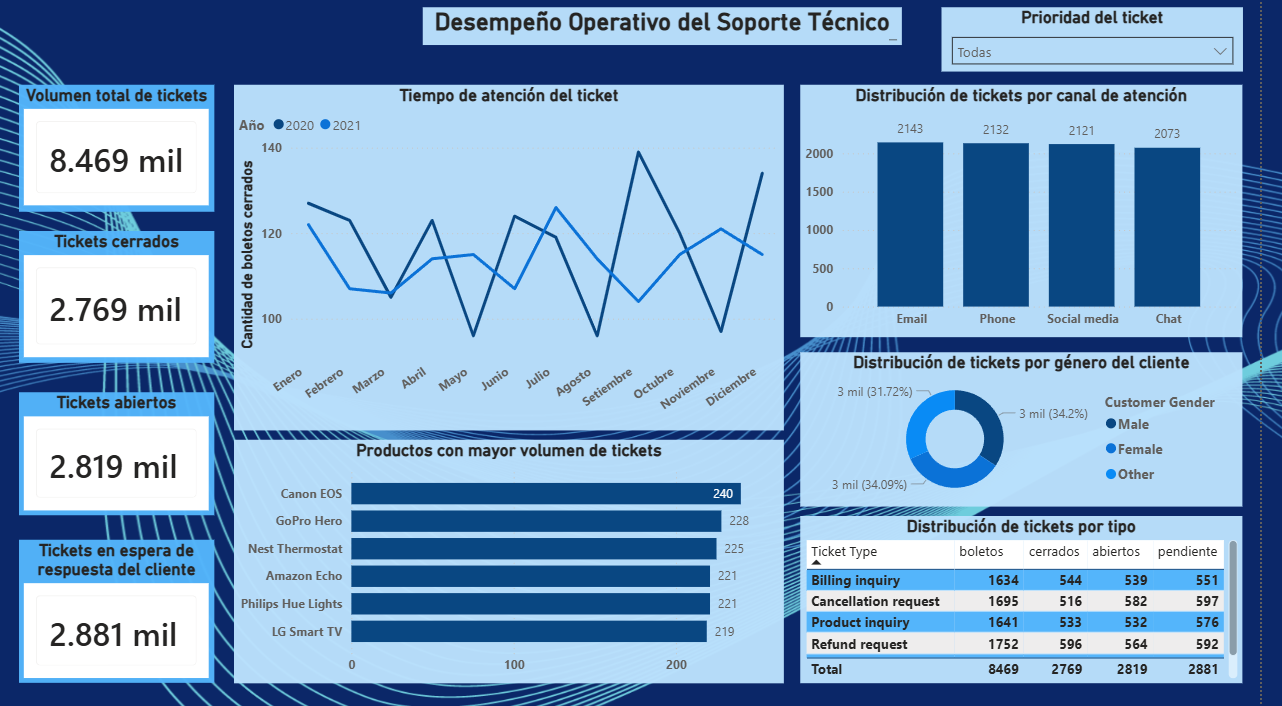

The dashboard page shown, as its layout file describes it:
{"tool":"powerbi","page":{"name":"ANALISIS","canvas":[1280,720],"ordinal":0},"visuals":[{"type":"cardVisual","title":"Volumen total de tickets","fields":{"Data":["customer_support_tickets.cantidad_boletos"]},"box":[45.4,93.3,194.2,126.1],"z":0},{"type":"cardVisual","title":"Tickets cerrados","fields":{"Data":["customer_support_tickets.boletos_cerrados"]},"box":[45.4,238.3,194.2,131.2],"z":1000},{"type":"cardVisual","title":"Tickets abiertos","fields":{"Data":["customer_support_tickets.boletos_abiertos"]},"box":[45.4,399.8,194.2,122.3],"z":2000},{"type":"cardVisual","title":"Tickets en espera de respuesta del cliente","fields":{"Data":["customer_support_tickets.boletos_pendiente"]},"box":[45.4,546,194.2,142.5],"z":3000},{"type":"donutChart","title":"Distribución de tickets por género del cliente","fields":{"Category":["customer_support_tickets.Customer Gender"],"Y":["customer_support_tickets.cantidad_boletos"]},"box":[822.2,359.4,440.1,153.9],"z":4000},{"type":"lineChart","title":"Tiempo de atención del ticket","fields":{"Category":["customer_support_tickets.Date of Purchase.Variación.Jerarquía de fechas.Mes"],"Series":["customer_support_tickets.Date of Purchase.Variación.Jerarquía de fechas.Año"],"Y":["customer_support_tickets.boletos_cerrados"]},"box":[258.5,93.3,547.3,344.3],"z":5000},{"type":"columnChart","title":"Distribución de tickets por canal de atención","fields":{"Category":["customer_support_tickets.Ticket Channel"],"Y":["customer_support_tickets.cantidad_boletos"]},"box":[822.2,93.3,440.1,251],"z":6000},{"type":"barChart","title":"Productos con mayor volumen de tickets","fields":{"Category":["customer_support_tickets.Product Purchased"],"Y":["customer_support_tickets.cantidad_boletos"]},"box":[258.5,446.4,547.3,242.1],"z":6001},{"type":"tableEx","title":"Distribución de tickets por tipo","fields":{"Values":["customer_support_tickets.Ticket Type","customer_support_tickets.cantidad_boletos","customer_support_tickets.boletos_cerrados","customer_support_tickets.boletos_abiertos","customer_support_tickets.boletos_pendiente"]},"box":[822.2,522.1,440.1,166.5],"z":6002},{"type":"textbox","title":"Desempeño Operativo del Soporte Técnico","box":[446.4,16.4,476.7,37.8],"z":6003},{"type":"slicer","title":"Prioridad del ticket","fields":{"Values":["customer_support_tickets.Ticket Priority"]},"box":[962.2,16.4,300.1,64.3],"z":6004}]}

Visuals, with their boxes in screenshot pixels (x1, y1, x2, y2), scaled from the page's 1280x720 canvas onto the 1282x706 screenshot:
"Volumen total de tickets" cardVisual: bbox(45, 91, 240, 215)
"Tickets cerrados" cardVisual: bbox(45, 234, 240, 362)
"Tickets abiertos" cardVisual: bbox(45, 392, 240, 512)
"Tickets en espera de respuesta del cliente" cardVisual: bbox(45, 535, 240, 675)
"Distribución de tickets por género del cliente" donutChart: bbox(823, 352, 1264, 503)
"Tiempo de atención del ticket" lineChart: bbox(259, 91, 807, 429)
"Distribución de tickets por canal de atención" columnChart: bbox(823, 91, 1264, 338)
"Productos con mayor volumen de tickets" barChart: bbox(259, 438, 807, 675)
"Distribución de tickets por tipo" tableEx: bbox(823, 512, 1264, 675)
"Desempeño Operativo del Soporte Técnico" textbox: bbox(447, 16, 925, 53)
"Prioridad del ticket" slicer: bbox(964, 16, 1264, 79)
